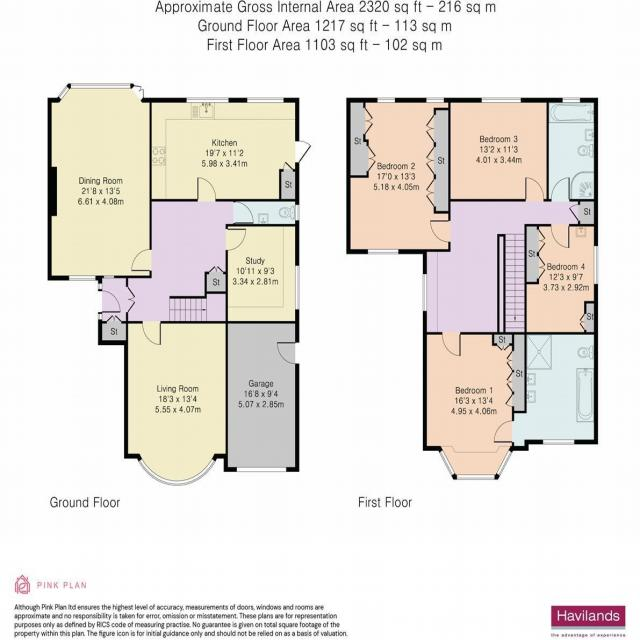DOOR: (97, 283, 123, 320), (490, 413, 515, 446), (276, 338, 301, 367), (140, 320, 164, 349), (129, 245, 153, 274), (225, 227, 248, 255), (294, 138, 313, 171), (550, 173, 571, 202), (523, 174, 545, 201), (440, 331, 462, 358), (428, 219, 451, 244), (196, 176, 219, 201), (550, 224, 571, 250), (233, 202, 256, 224)
ROOM: (47, 83, 153, 281), (150, 97, 316, 202), (124, 321, 228, 486), (347, 98, 451, 255), (423, 331, 527, 480), (448, 96, 549, 203), (524, 223, 599, 335), (225, 223, 300, 323)
WINDOW: (135, 455, 218, 489), (436, 446, 514, 482), (70, 81, 131, 90), (421, 270, 430, 316), (185, 96, 230, 105), (245, 96, 285, 105), (294, 264, 301, 312), (480, 96, 522, 104), (367, 247, 399, 256), (56, 84, 71, 102), (542, 438, 575, 446), (593, 244, 599, 285), (67, 274, 97, 282), (376, 96, 396, 104), (562, 96, 581, 104), (294, 203, 301, 222), (426, 97, 445, 104), (103, 274, 115, 280)
